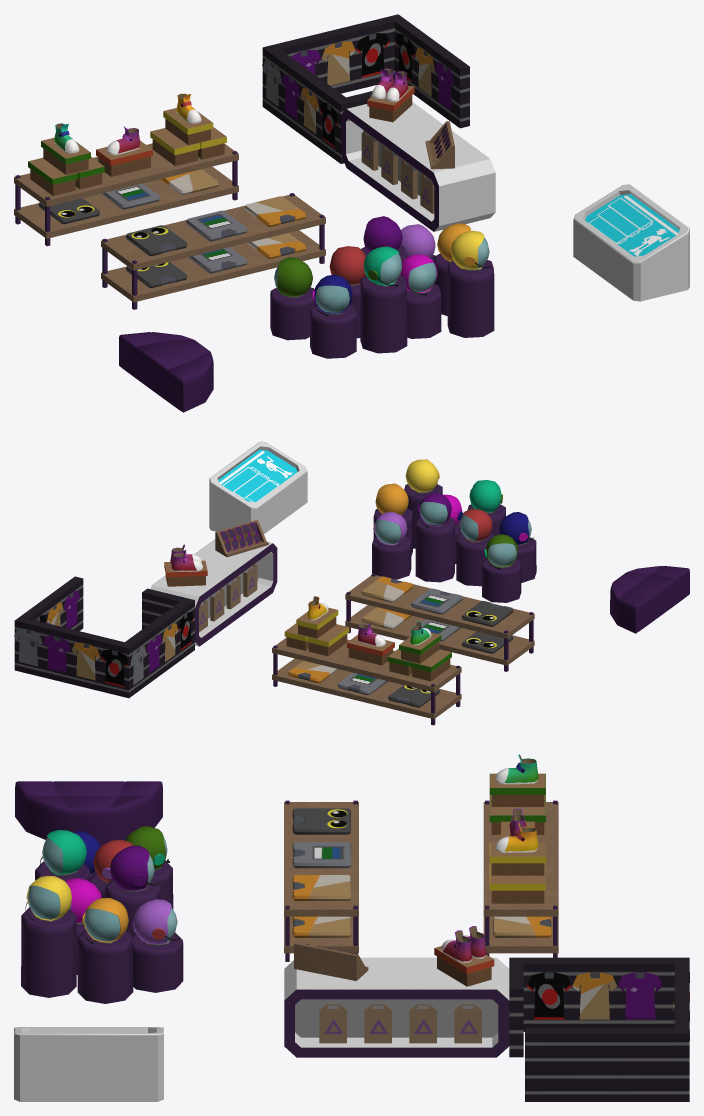
Rendered from Clothes Tile.fbx.
3 renders of one model, top to bottom at view 1: azimuth 30°, elevation 25°; view 2: azimuth 150°, elevation 25°; view 3: azimuth 270°, elevation 25°, orthographic. The views are drawn at different scales.
Parts seen in each view (by area): view 1: Start_ClothesStore; view 2: Start_ClothesStore; view 3: Start_ClothesStore.
Part boxes in pixels (<box>): Start_ClothesStore: <box>14,14,689,412</box>; Start_ClothesStore: <box>14,441,689,725</box>; Start_ClothesStore: <box>14,754,689,1101</box>.
Bounding box in the file's own units: 355 × 68.47 × 355.
1 material, 1 textured.
